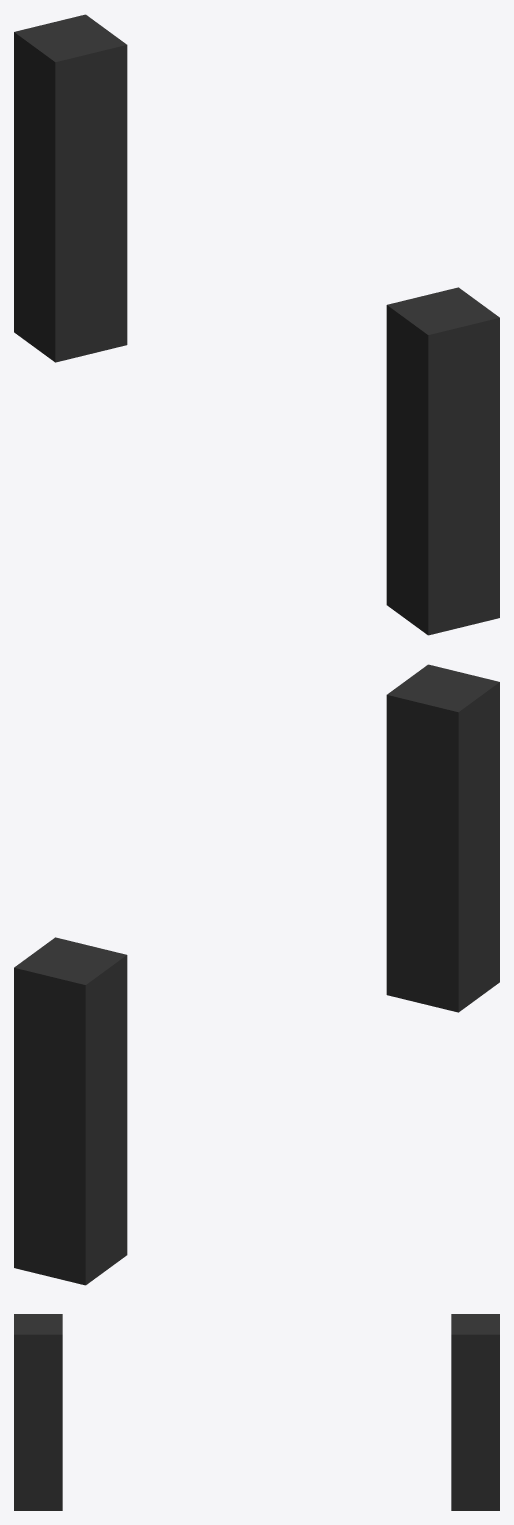
The model's file is Tunel Pilastra.fbx.
3 renders of one model, top to bottom at view 1: azimuth 30°, elevation 25°; view 2: azimuth 150°, elevation 25°; view 3: azimuth 270°, elevation 25°, orthographic. The views are drawn at different scales.
Parts seen in each view (by area): view 1: Tunel Pilastra; view 2: Tunel Pilastra; view 3: Tunel Pilastra.
Part boxes in pixels (x1,y1,x2,y2): Tunel Pilastra: (14,14,499,635); Tunel Pilastra: (14,664,499,1285); Tunel Pilastra: (14,1314,499,1510).
Size of the model in its own units: 100 by 400 by 1000.
